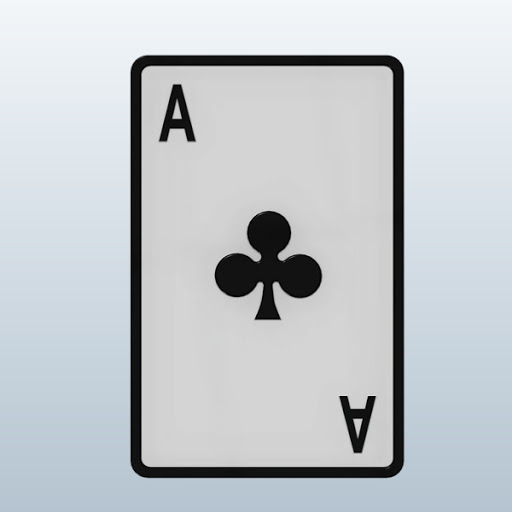ace of clubs: (141, 63, 395, 468)
